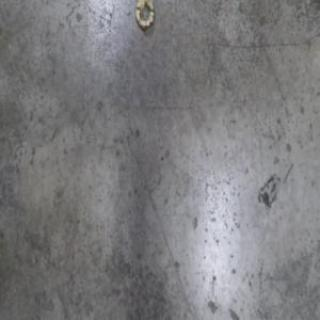Nuttrack_idkeyframe: (133, 0, 154, 34)
